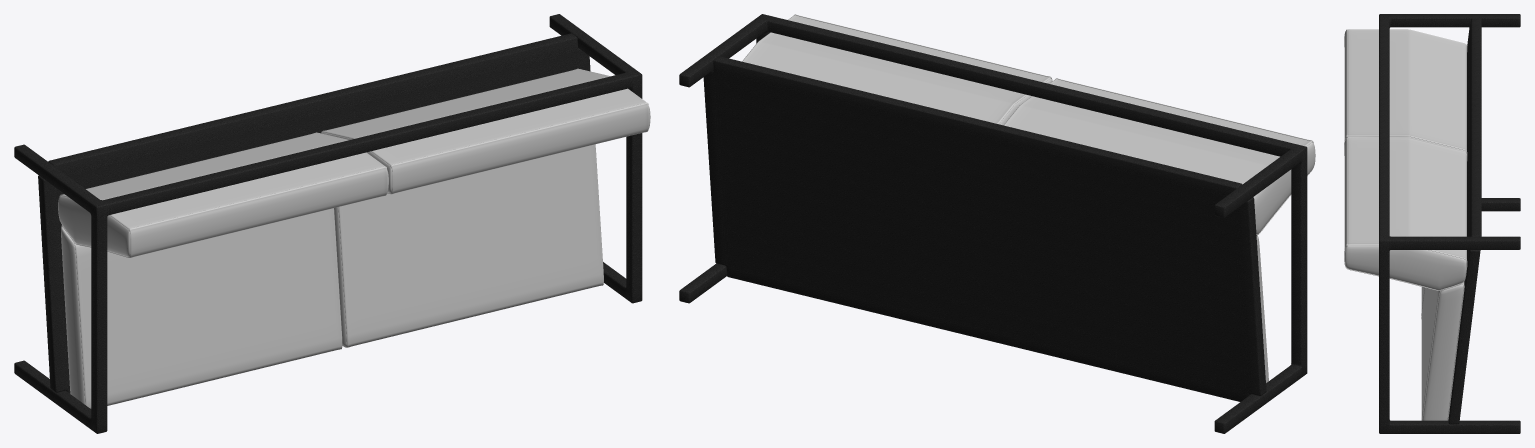
The model's file is Sundays Frame Sofa N090225.obj.
The picture shows the model from 3 angles, left to right: view 1: azimuth 30°, elevation 25°; view 2: azimuth 150°, elevation 25°; view 3: azimuth 270°, elevation 25°; orthographic projection. The views are drawn at different scales.
Visible parts, largest first — view 1: Box13312701, Object002, Object005, Object003, Object004, Box1331270; view 2: Box13312701, Object003, Object004, Box1331270; view 3: Object004, Box13312701, Object003, Box1331270, Object005.
Boxes of the visible parts, x1,y1,x2,y2 form: Box13312701: [14, 14, 641, 433]; Object002: [61, 208, 342, 408]; Object005: [334, 144, 603, 347]; Object003: [58, 132, 388, 257]; Object004: [321, 68, 650, 194]; Box1331270: [14, 14, 642, 433]; Box13312701: [681, 14, 1307, 432]; Object003: [1003, 78, 1315, 235]; Object004: [742, 14, 1052, 125]; Box1331270: [679, 14, 1307, 433]; Object004: [1344, 138, 1467, 290]; Box13312701: [1380, 14, 1519, 433]; Object003: [1344, 29, 1467, 154]; Box1331270: [1379, 14, 1520, 433]; Object005: [1421, 282, 1464, 420].
Bounding box in the file's own units: 0.201 × 0.0802 × 0.066.
